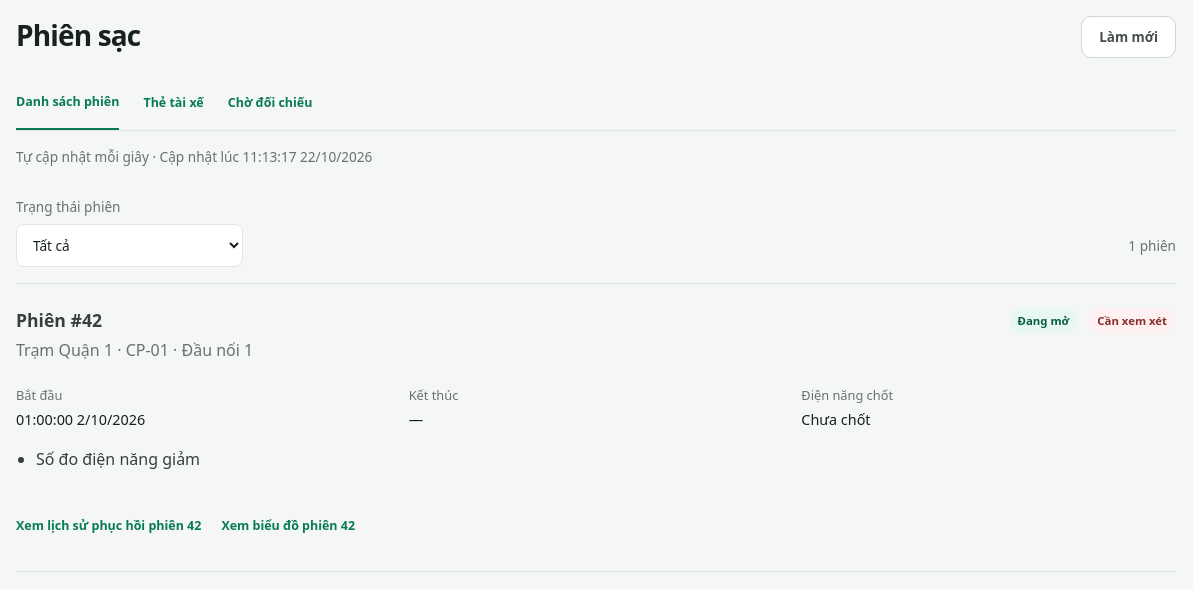
Test case: ChargingSessionsPage › shows pending reconciliation without a fake repair action
The image size is (1193, 589).
Expected: the heading "Phiên #42" is shown, x1=16 y1=308 x2=102 y2=332
What coordinates should you click on to do the following:
click the button "Chờ đối chiếu"
I would click on:
 (270, 108)
Its box is x1=228 y1=86 x2=312 y2=130.
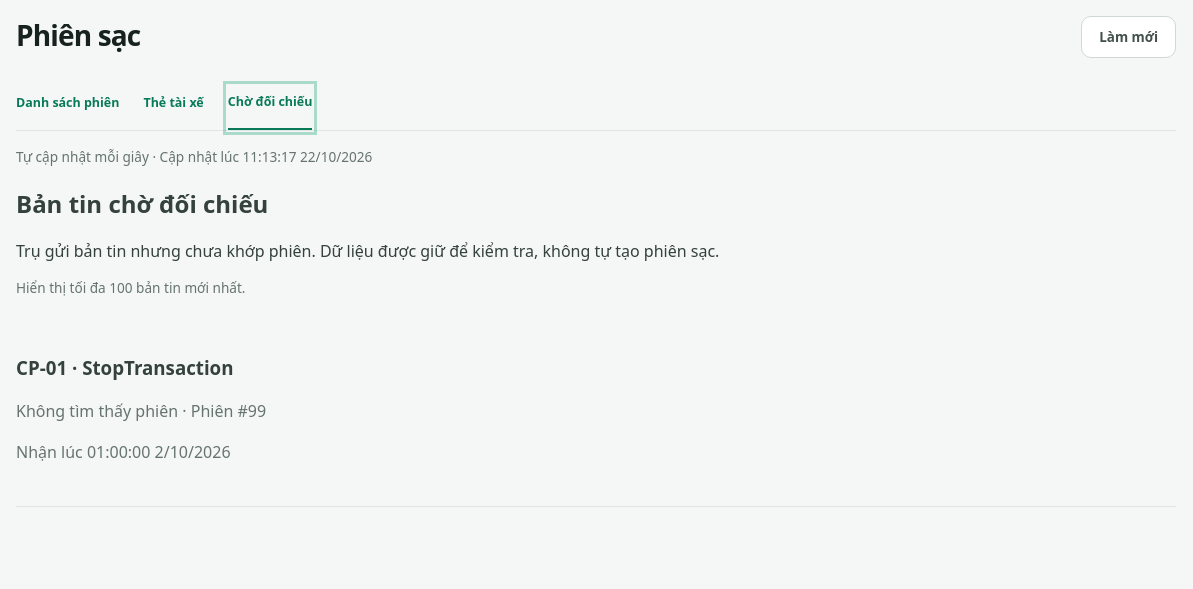
Now the text "Không tìm thấy phiên · Phiên #99" is shown, box x1=16 y1=400 x2=266 y2=422
